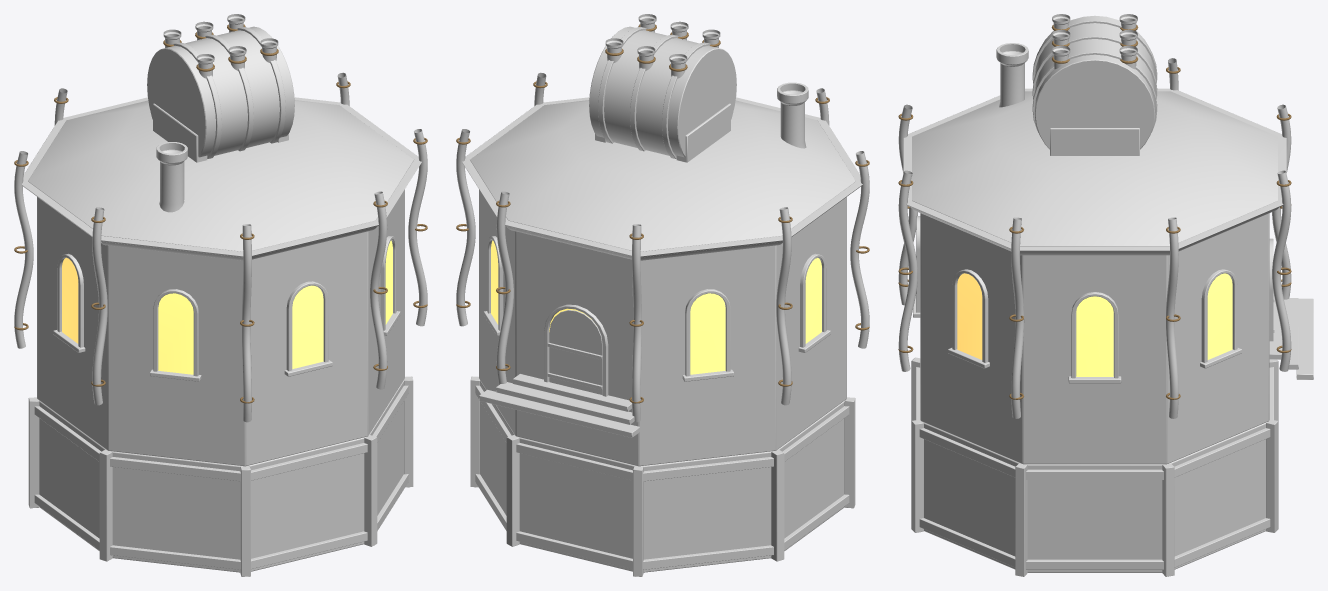
The model's file is content.glb.
3 renders of one model, left to right at view 1: azimuth 30°, elevation 25°; view 2: azimuth 150°, elevation 25°; view 3: azimuth 270°, elevation 25°, orthographic.
Parts seen in each view (by area): view 1: ground__brick_decay, basement__iron_decay, crown__slate_decay, crown__brass_pipe, ground__brass_pipe, ground__window_glass, crown__stone_decay, ground__stone_decay, crown__iron_decay, crown__soot_iron, ground__bronze; view 2: ground__brick_decay, basement__iron_decay, crown__slate_decay, crown__brass_pipe, ground__brass_pipe, ground__stone_decay, crown__stone_decay, ground__window_glass, crown__iron_decay, ground__iron_decay, ground__trim_brass, crown__soot_iron (+1 smaller); view 3: ground__brick_decay, basement__iron_decay, crown__slate_decay, crown__brass_pipe, ground__brass_pipe, ground__stone_decay, ground__window_glass, crown__stone_decay, crown__iron_decay, crown__soot_iron, ground__bronze.
Boxes of the visible parts, bbox=[...] form: ground__brick_decay: bbox=[37, 189, 404, 466]; basement__iron_decay: bbox=[28, 376, 413, 576]; crown__slate_decay: bbox=[28, 100, 413, 251]; crown__brass_pipe: bbox=[147, 14, 294, 157]; ground__brass_pipe: bbox=[14, 72, 427, 422]; ground__window_glass: bbox=[62, 240, 392, 374]; crown__stone_decay: bbox=[21, 97, 421, 260]; ground__stone_decay: bbox=[53, 236, 400, 381]; crown__iron_decay: bbox=[153, 27, 288, 162]; crown__soot_iron: bbox=[156, 142, 187, 212]; ground__bronze: bbox=[14, 81, 427, 403]; ground__brick_decay: bbox=[479, 189, 846, 466]; basement__iron_decay: bbox=[470, 376, 855, 576]; crown__slate_decay: bbox=[470, 100, 855, 251]; crown__brass_pipe: bbox=[589, 14, 736, 157]; ground__brass_pipe: bbox=[456, 72, 869, 422]; ground__stone_decay: bbox=[479, 236, 830, 437]; crown__stone_decay: bbox=[462, 97, 862, 260]; ground__window_glass: bbox=[491, 240, 821, 374]; crown__iron_decay: bbox=[595, 27, 730, 162]; ground__iron_decay: bbox=[549, 310, 602, 394]; ground__trim_brass: bbox=[544, 304, 608, 396]; crown__soot_iron: bbox=[777, 82, 808, 148]; ground__brick_decay: bbox=[920, 213, 1269, 464]; basement__iron_decay: bbox=[911, 357, 1278, 576]; crown__slate_decay: bbox=[912, 91, 1277, 246]; crown__brass_pipe: bbox=[1034, 14, 1155, 149]; ground__brass_pipe: bbox=[898, 58, 1291, 418]; ground__stone_decay: bbox=[913, 216, 1313, 383]; ground__window_glass: bbox=[957, 273, 1232, 376]; crown__stone_decay: bbox=[903, 88, 1286, 255]; crown__iron_decay: bbox=[1032, 18, 1157, 155]; crown__soot_iron: bbox=[996, 43, 1028, 107]; ground__bronze: bbox=[898, 67, 1291, 399].
Size of the model in its own units: 10.5 by 13.72 by 11.08.
